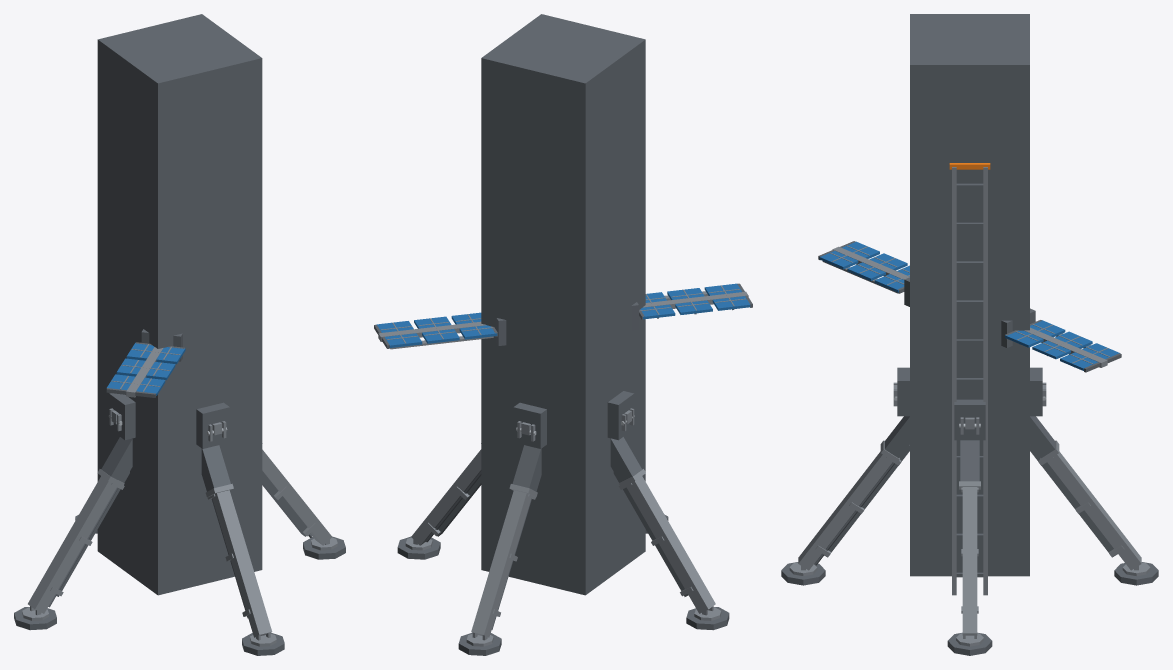
The model's file is lander_landed.glb.
3 views of the same model, side by side, from view 1: azimuth 30°, elevation 25°; view 2: azimuth 150°, elevation 25°; view 3: azimuth 270°, elevation 25° (orthographic).
Parts seen in each view (by area): view 1: col_LanderLanded, LanderLanded_LOD0; view 2: col_LanderLanded, LanderLanded_LOD0; view 3: col_LanderLanded, LanderLanded_LOD0.
Boxes of the visible parts, x1,y1,x2,y2 form: col_LanderLanded: [97, 14, 262, 595]; LanderLanded_LOD0: [14, 37, 345, 655]; col_LanderLanded: [481, 14, 645, 595]; LanderLanded_LOD0: [374, 37, 752, 655]; col_LanderLanded: [910, 14, 1029, 576]; LanderLanded_LOD0: [781, 28, 1158, 655].
Size of what is drawn, in the model's own units: 4.08 by 6.4 by 4.08.
